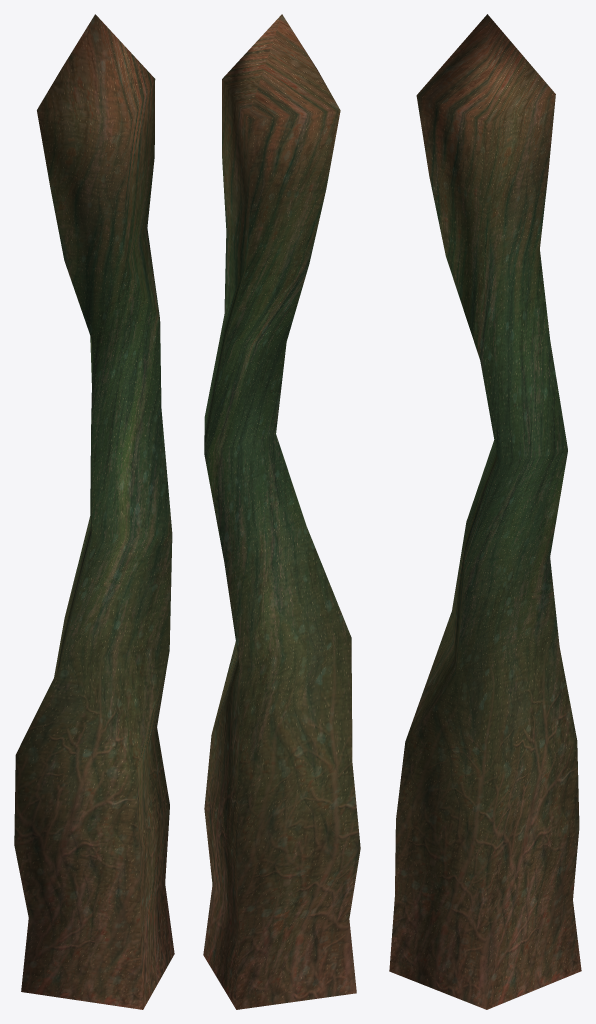
File: phys_Plant2_1.fbx
The picture shows the model from 3 angles, left to right: view 1: azimuth 30°, elevation 25°; view 2: azimuth 150°, elevation 25°; view 3: azimuth 270°, elevation 25°; orthographic projection.
Parts seen in each view (by area): view 1: polySurface31; view 2: polySurface31; view 3: polySurface31.
Part boxes in pixels (bbox=[...]): polySurface31: bbox=[14, 14, 174, 1009]; polySurface31: bbox=[203, 14, 360, 1009]; polySurface31: bbox=[389, 14, 581, 1009].
Size of the model in its own units: 52.31 by 302 by 54.97.
